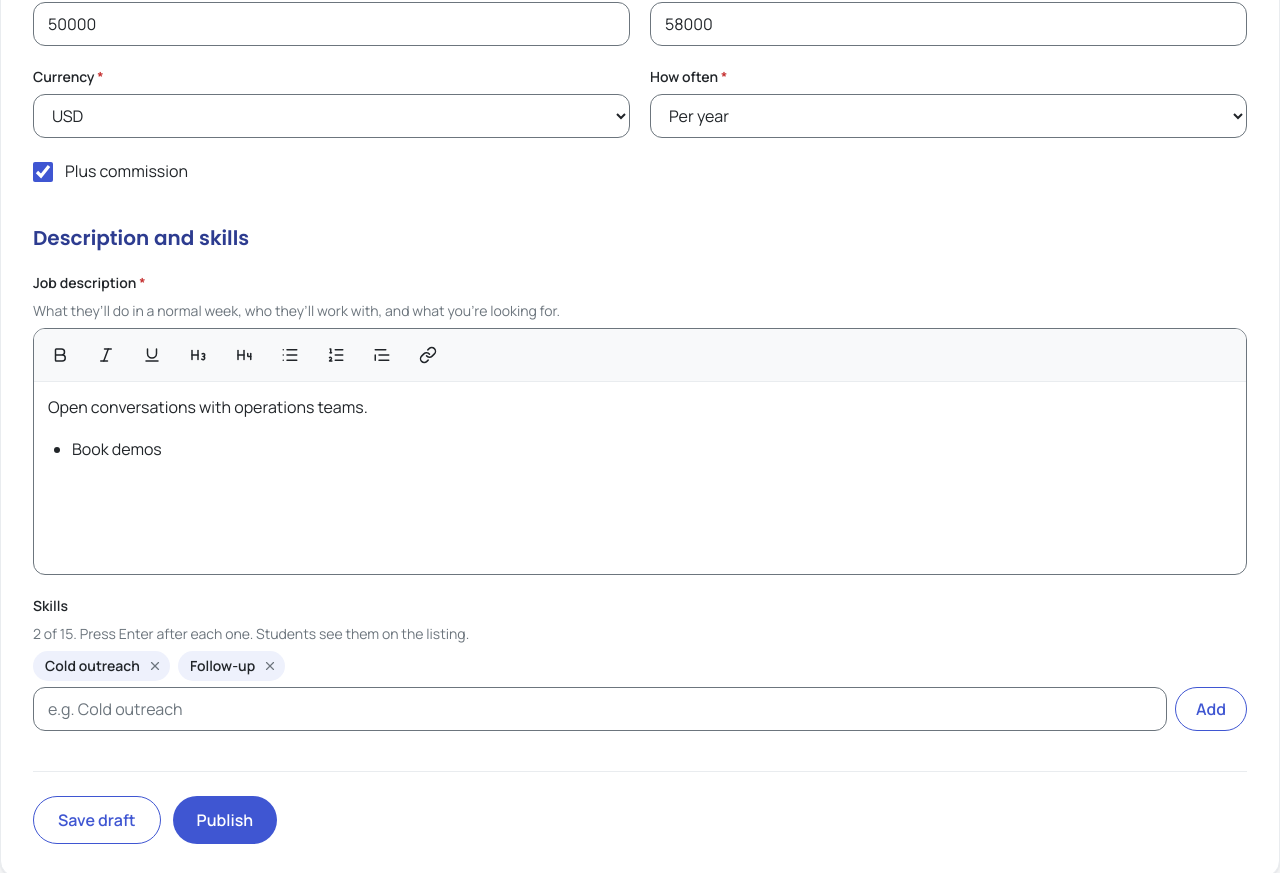
it: JobEditor › publishes a draft by saving the form and then changing its status
(page scrolled)
expect the field named "Job description" is shown: met, box x1=48 y1=396 x2=368 y2=460
Click the button "Publish" at (225, 820), box x1=173 y1=796 x2=277 y2=844
(page scrolled)
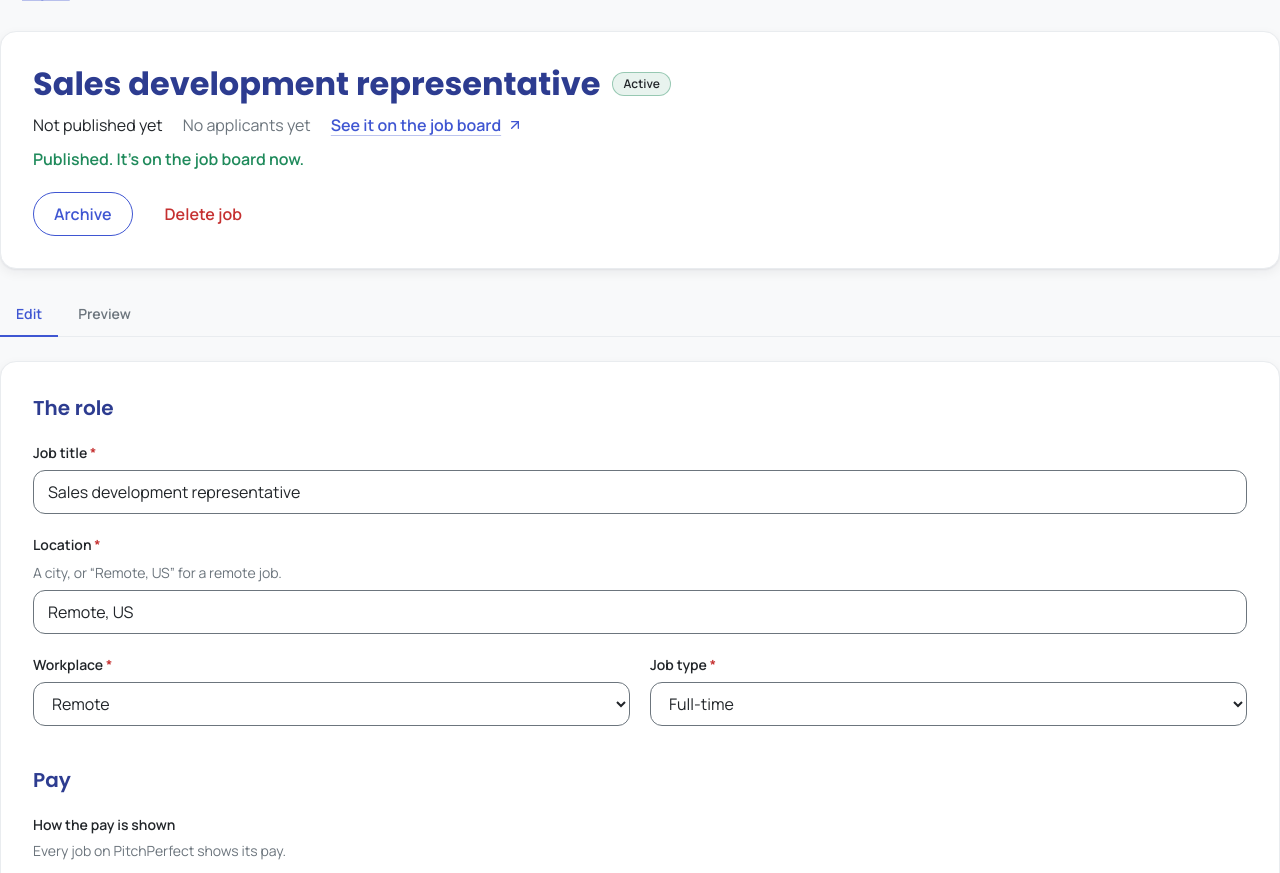
expect the text "Published. It’s on the job board now." is shown: met, box x1=33 y1=148 x2=304 y2=170
